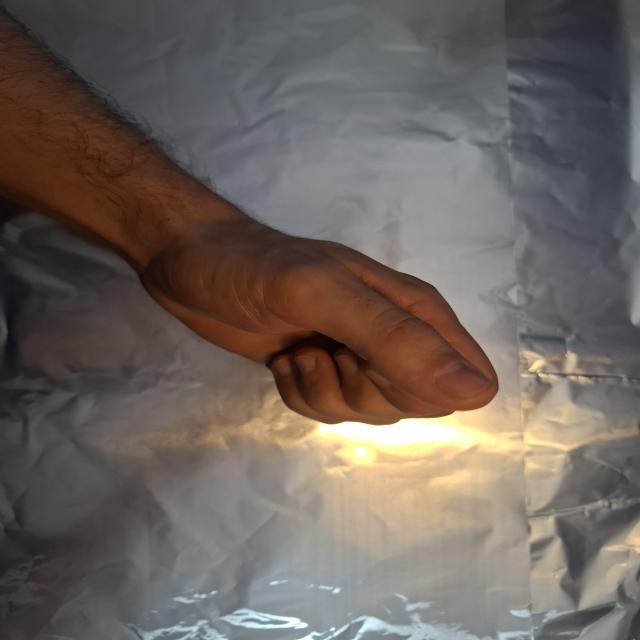glove_off: (137, 212, 502, 426)
